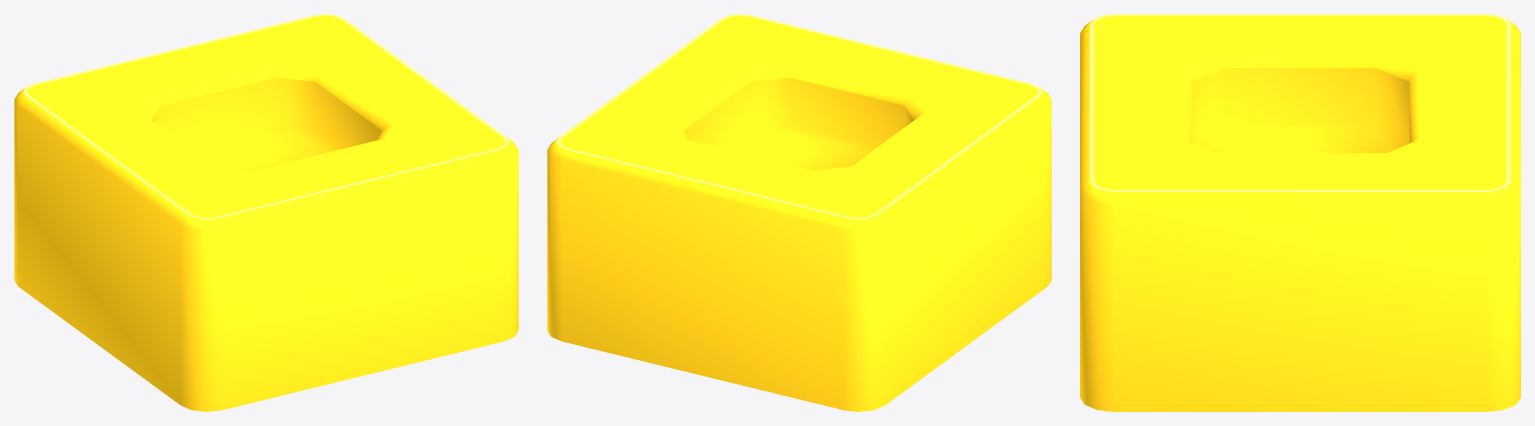
Rendered from cell_yellow.glb.
3 views of the same model, side by side, from view 1: azimuth 30°, elevation 25°; view 2: azimuth 150°, elevation 25°; view 3: azimuth 270°, elevation 25° (orthographic). The views are drawn at different scales.
Visible parts, largest first — view 1: cell_yellow; view 2: cell_yellow; view 3: cell_yellow.
Part boxes in pixels (left/top/right/bottom): cell_yellow: left=14, top=14, right=518, bottom=411; cell_yellow: left=547, top=14, right=1051, bottom=411; cell_yellow: left=1080, top=14, right=1520, bottom=411.
Bounding box in the file's own units: 1 × 0.54 × 1.
Materials: 1 (1 with a texture image).
